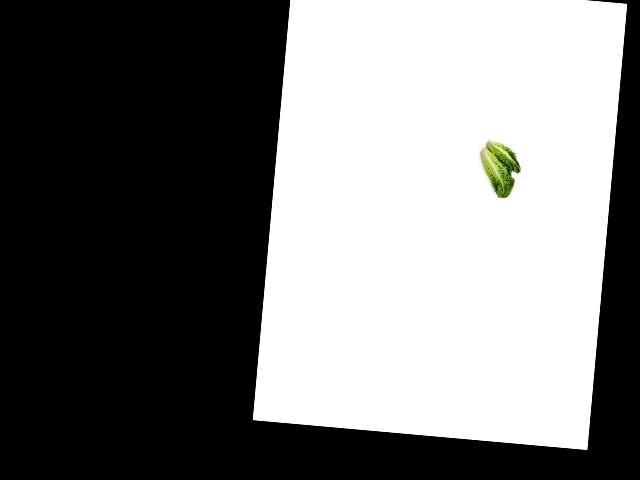lettuce: (474, 151, 518, 199)
